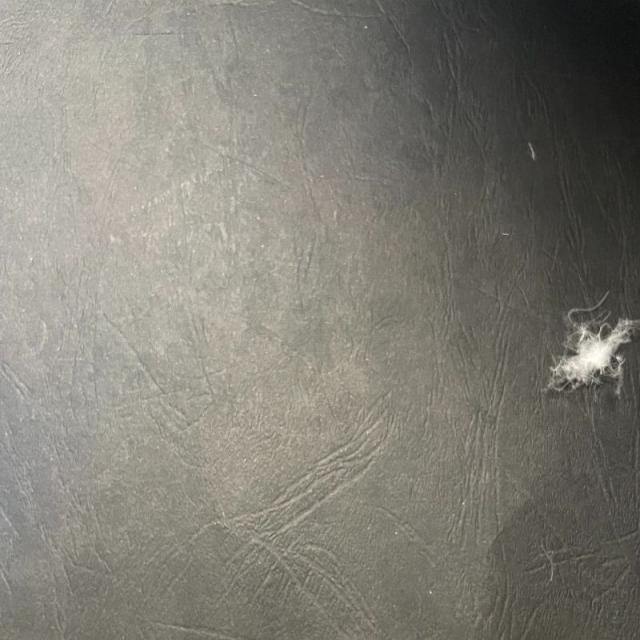feather: (544, 301, 636, 397)
